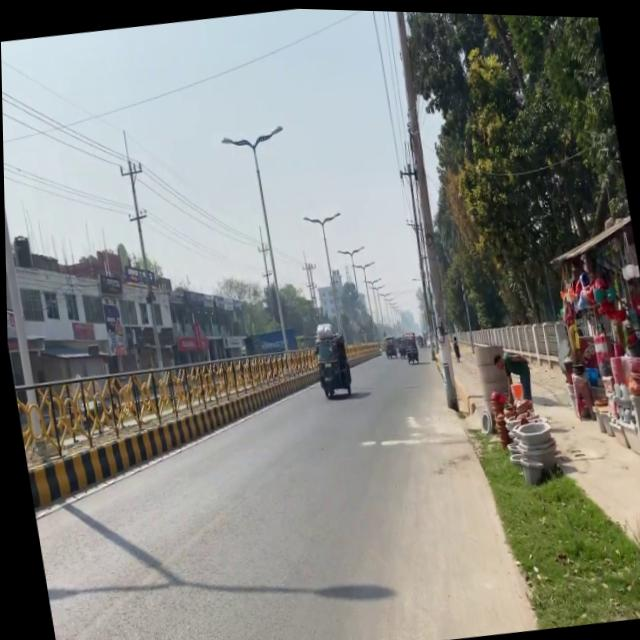Construction-barrier: (430, 326, 537, 632), (432, 332, 459, 409)
Downstairs: (471, 338, 515, 431)
Fallen-tree: (309, 328, 352, 399), (381, 334, 397, 357), (402, 340, 418, 362)
Garbage-bin: (450, 333, 460, 359)
Light-pole: (379, 9, 467, 409), (1, 44, 47, 462)
Pole: (9, 316, 396, 509)
Pothole: (443, 305, 640, 630)
